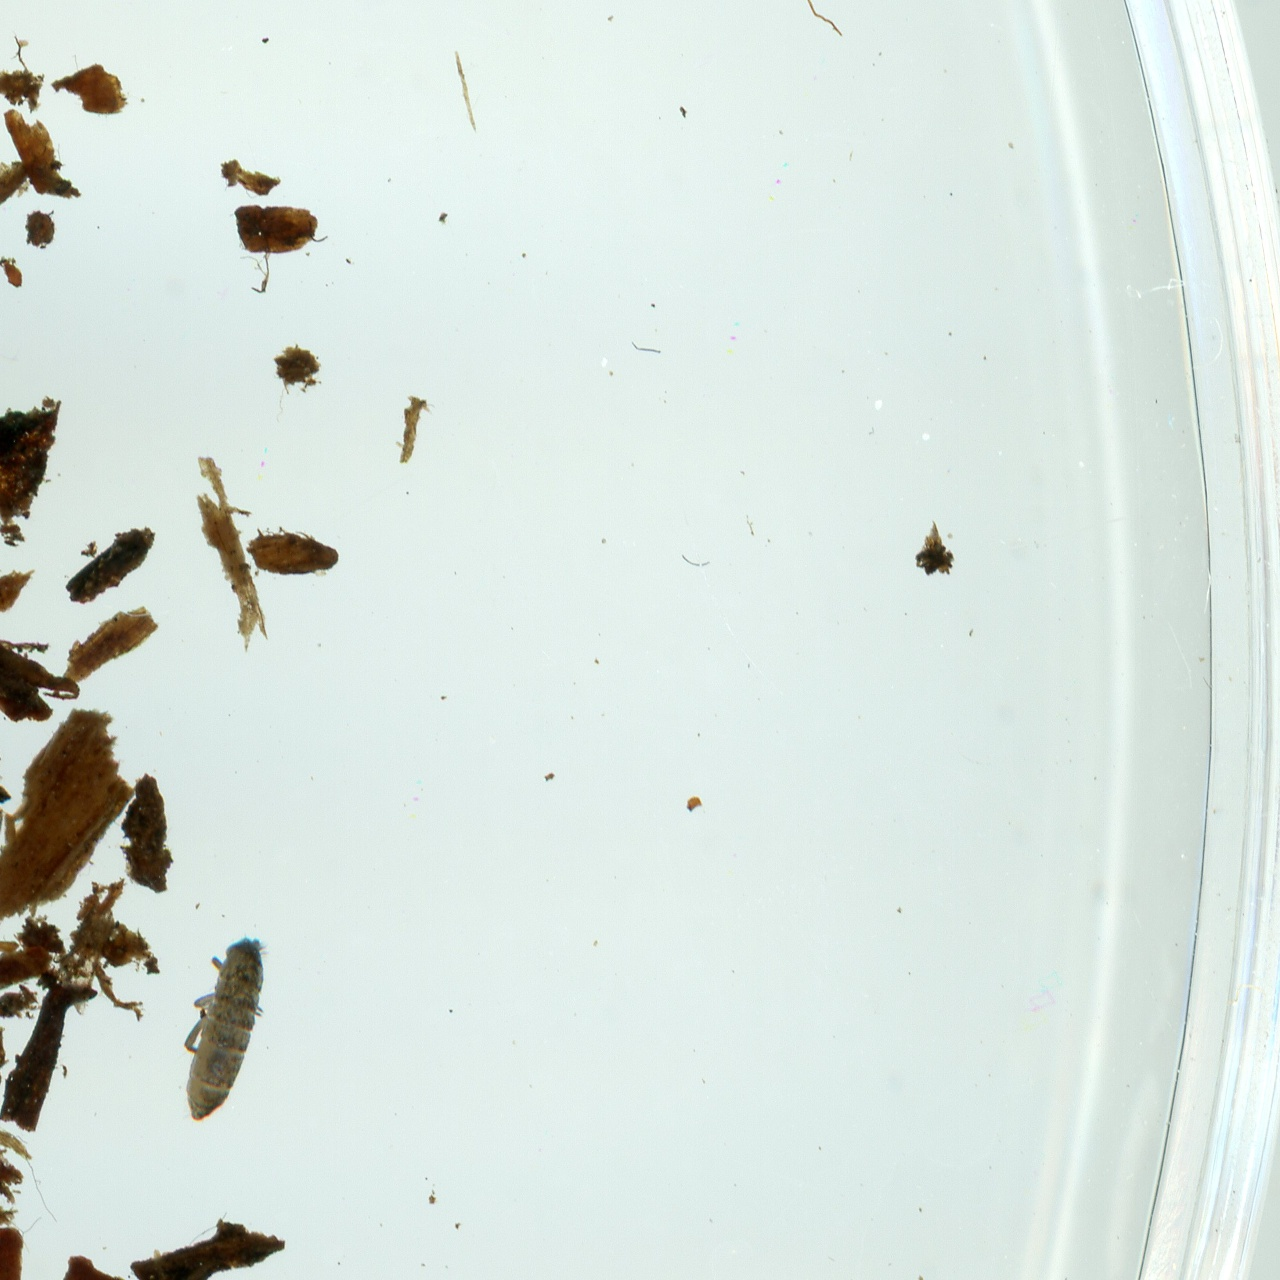arthropod: (162, 918, 283, 1138)
